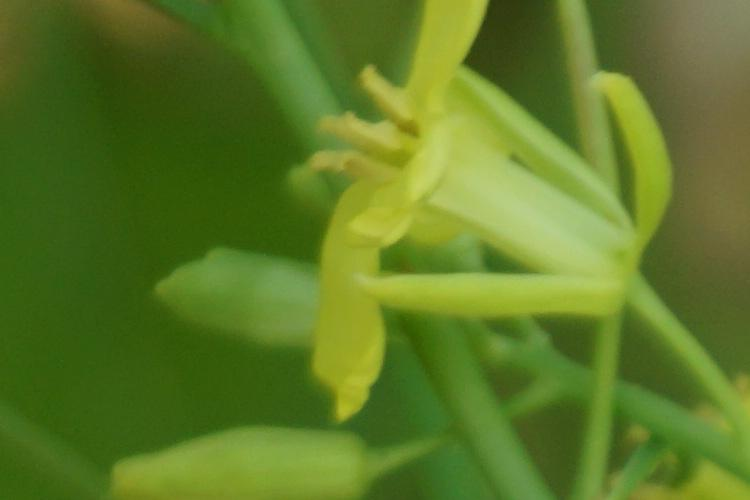bud: (105, 413, 386, 500)
yellow: (308, 6, 667, 402)
